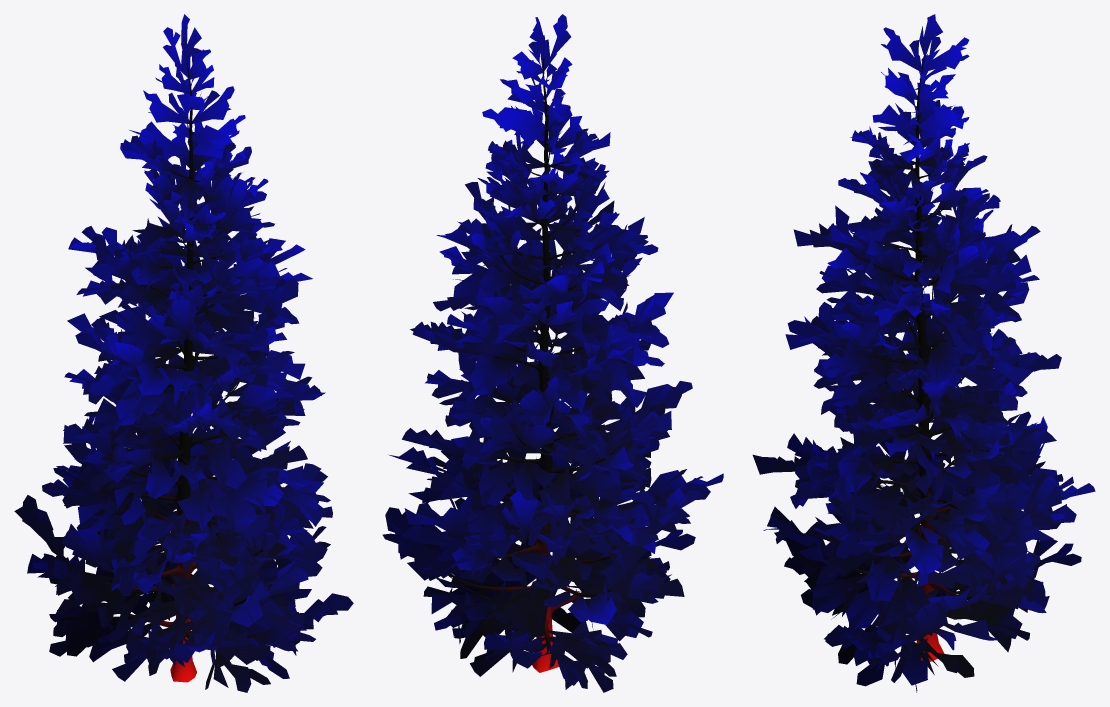
The model's file is SM_SilverFir_05.fbx.
3 renders of one model, left to right at view 1: azimuth 30°, elevation 25°; view 2: azimuth 150°, elevation 25°; view 3: azimuth 270°, elevation 25°, orthographic.
Visible parts, largest first — view 1: SM_SilverFir_05_LOD0; view 2: SM_SilverFir_05_LOD0; view 3: SM_SilverFir_05_LOD0.
Part boxes in pixels (x1,y1,x2,y2): SM_SilverFir_05_LOD0: [14, 14, 353, 692]; SM_SilverFir_05_LOD0: [382, 14, 723, 692]; SM_SilverFir_05_LOD0: [752, 14, 1095, 692].
Size of the model in its own units: 354 by 378 by 784.
